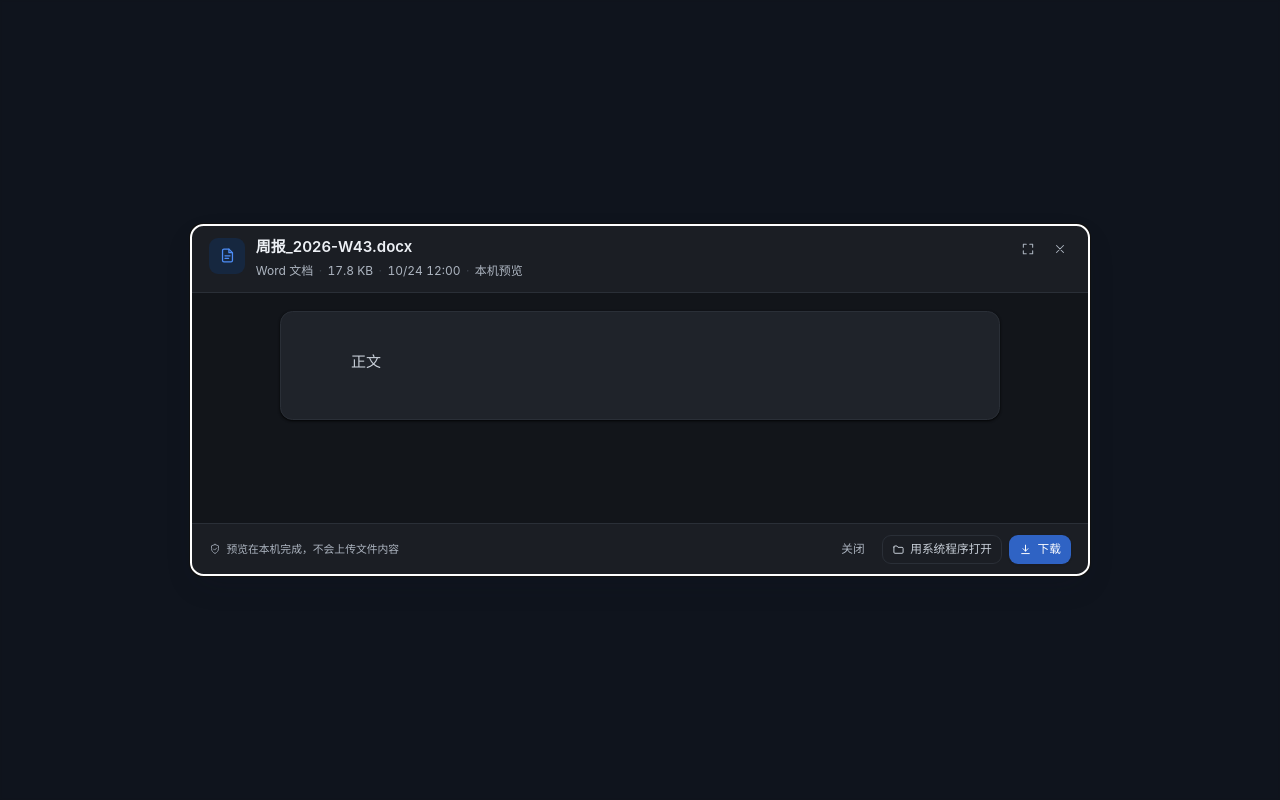
Scenario: ArtifactPreviewModal › 下载按钮透传 download_url，并把「已开始下载」告诉用户
Expected: the text "正文" is shown, [351,352,381,371]
Step 1. Click the button "下载" → (1040, 550), box [1009,535,1071,564]
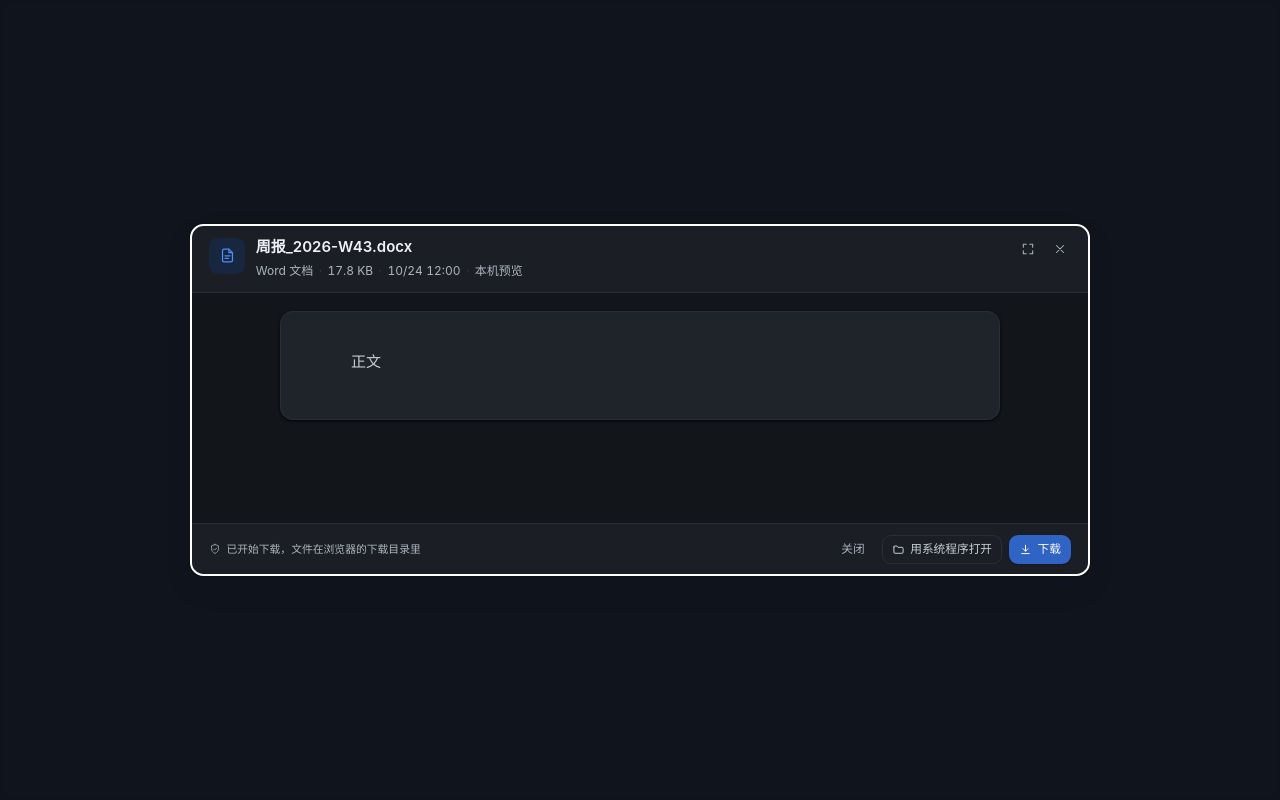
Expected: the text "已开始下载，文件在浏览器的下载目录里" is shown, [226,542,421,557]
